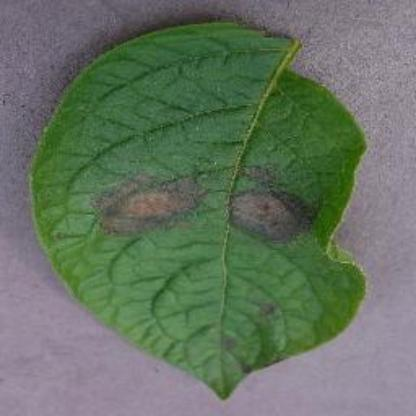Late-Blight: (8, 9, 406, 409)
